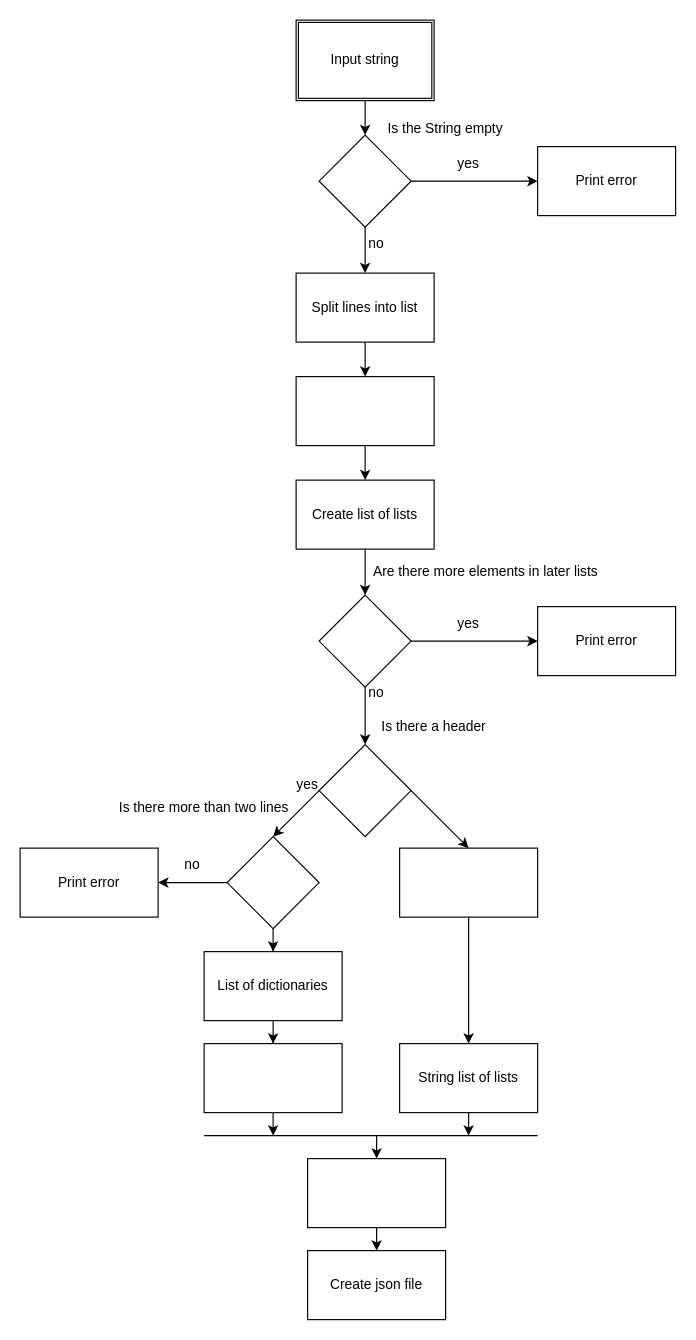
This 696x1340 diagram has some shape labels left out. Each missing label, with the box of its shape:
Convert to json format: (306, 1157, 446, 1228)
List of lists: (398, 847, 538, 917)
Split words into list: (295, 375, 434, 446)
String List of dictionaries: (203, 1042, 342, 1113)
